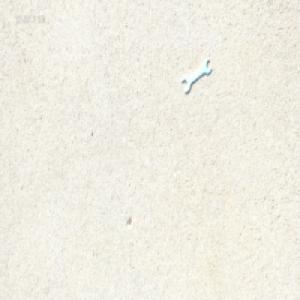Wrench: (182, 58, 211, 93)
